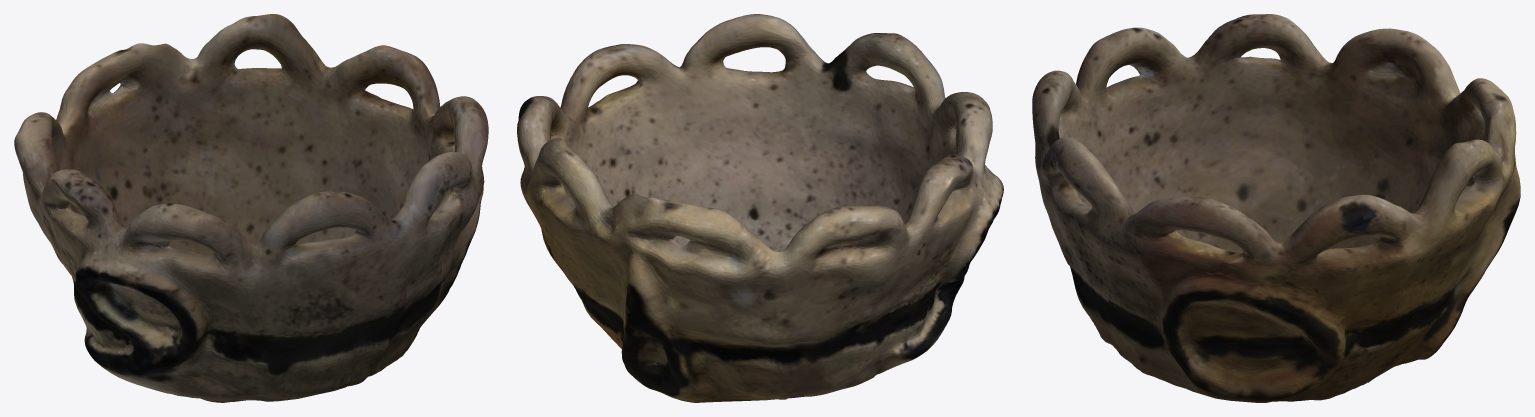
File: cesto.glb
The picture shows the model from 3 angles, left to right: view 1: azimuth 30°, elevation 25°; view 2: azimuth 150°, elevation 25°; view 3: azimuth 270°, elevation 25°; orthographic projection. The views are drawn at different scales.
Bounding box in the file's own units: 0.703 × 0.4062 × 0.6916.
1 material, 1 textured.
